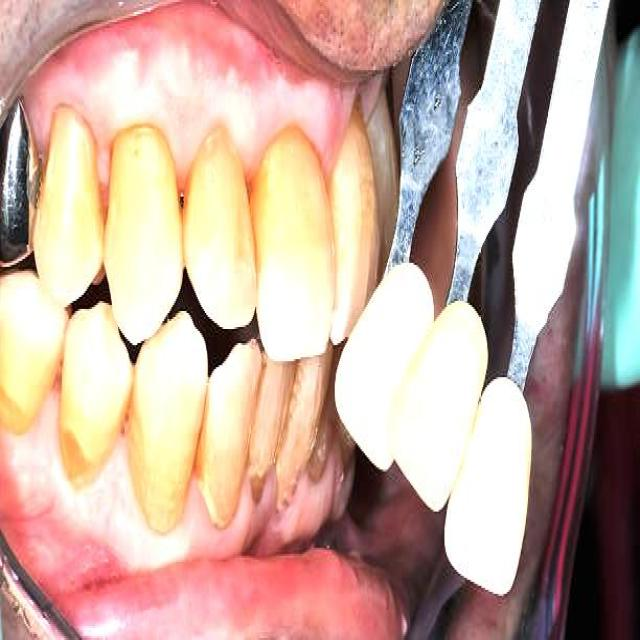caries: (49, 400, 106, 504), (0, 358, 37, 459), (246, 450, 278, 522)
